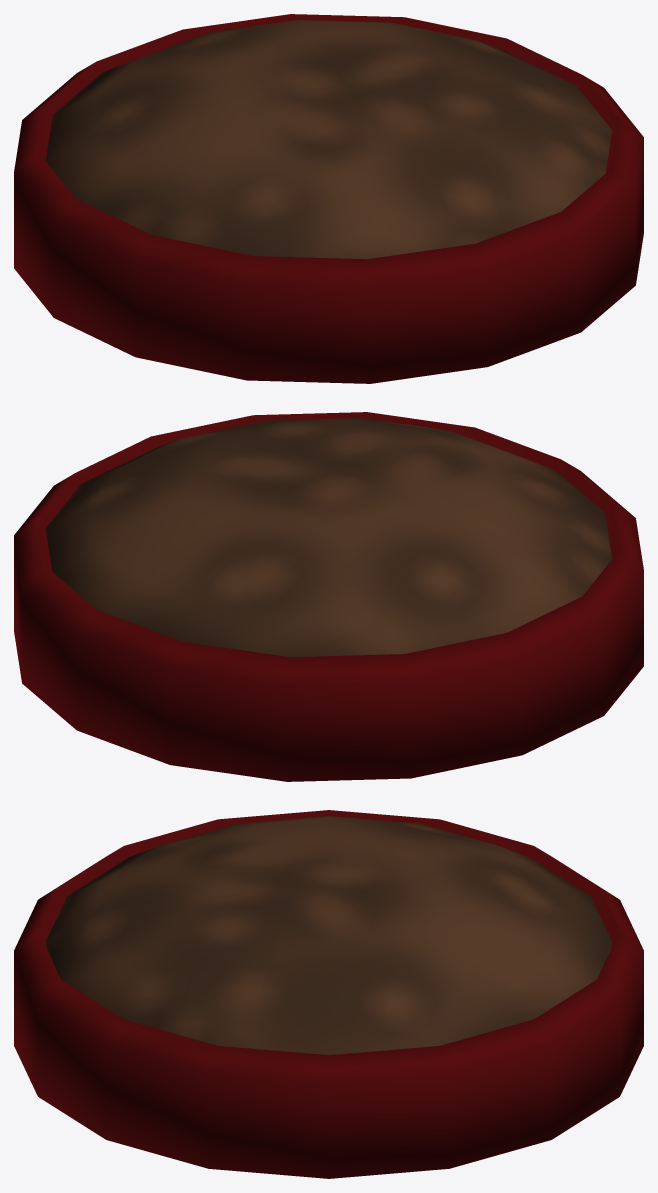
File: PetFoodBowl.glb
3 renders of one model, top to bottom at view 1: azimuth 30°, elevation 25°; view 2: azimuth 150°, elevation 25°; view 3: azimuth 270°, elevation 25°, orthographic.
Parts seen in each view (by area): view 1: Cylinder; view 2: Cylinder; view 3: Cylinder.
Boxes of the visible parts, x1,y1,x2,y2 form: Cylinder: [14, 14, 643, 383]; Cylinder: [14, 412, 643, 781]; Cylinder: [14, 810, 643, 1178].
Bounding box in the file's own units: 0.6 × 0.1732 × 0.6.
Materials: 1 (1 with a texture image).
